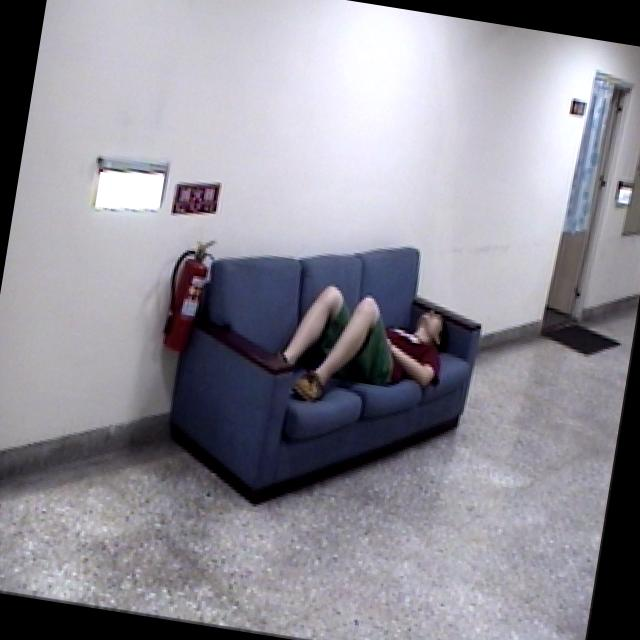lie: (264, 264, 466, 424)
